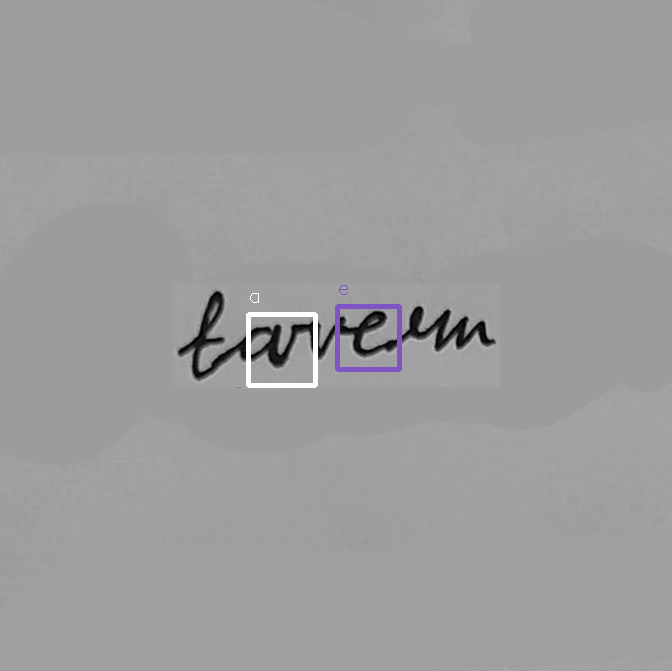a: (234, 317, 284, 368)
e: (350, 308, 393, 360)
n: (453, 311, 497, 355)
r: (399, 301, 452, 356)
t: (176, 287, 232, 382)
v: (303, 312, 349, 361)
